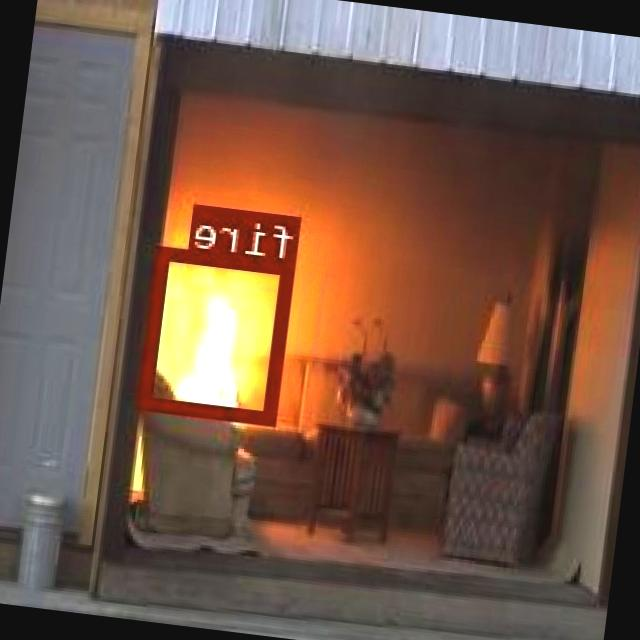fire: (141, 243, 298, 422)
